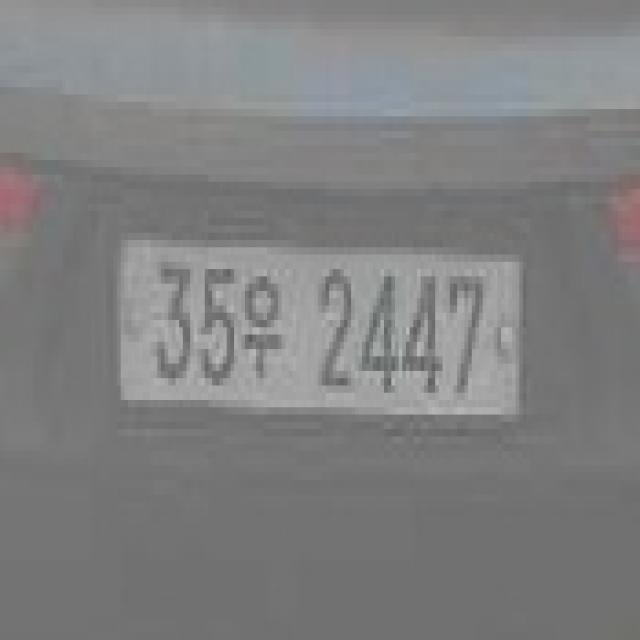2: (315, 262, 351, 393)
3: (154, 255, 194, 378)
4: (402, 269, 442, 393), (358, 276, 398, 386)
5: (198, 254, 238, 386)
7: (446, 276, 483, 393)
license_plate: (114, 226, 530, 437)
u: (242, 269, 282, 386)
